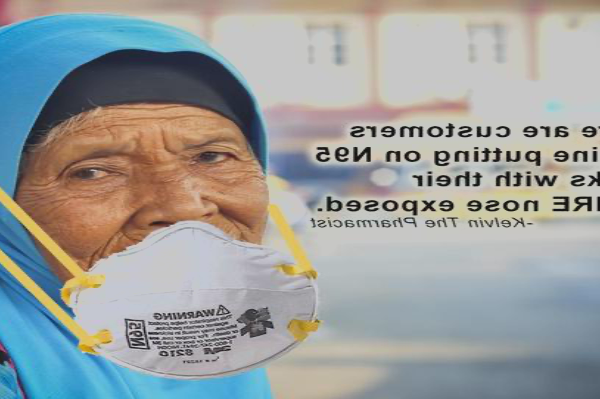mask_weared_incorrect: (25, 128, 271, 307)
